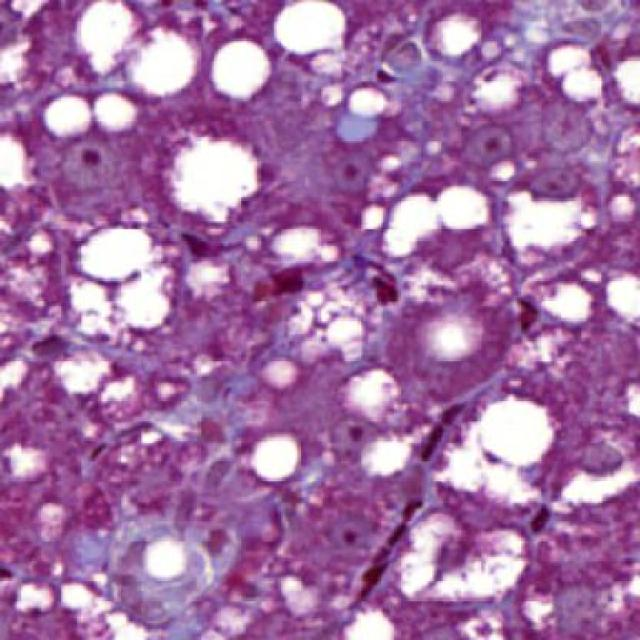steatosis: (202, 34, 280, 103)
